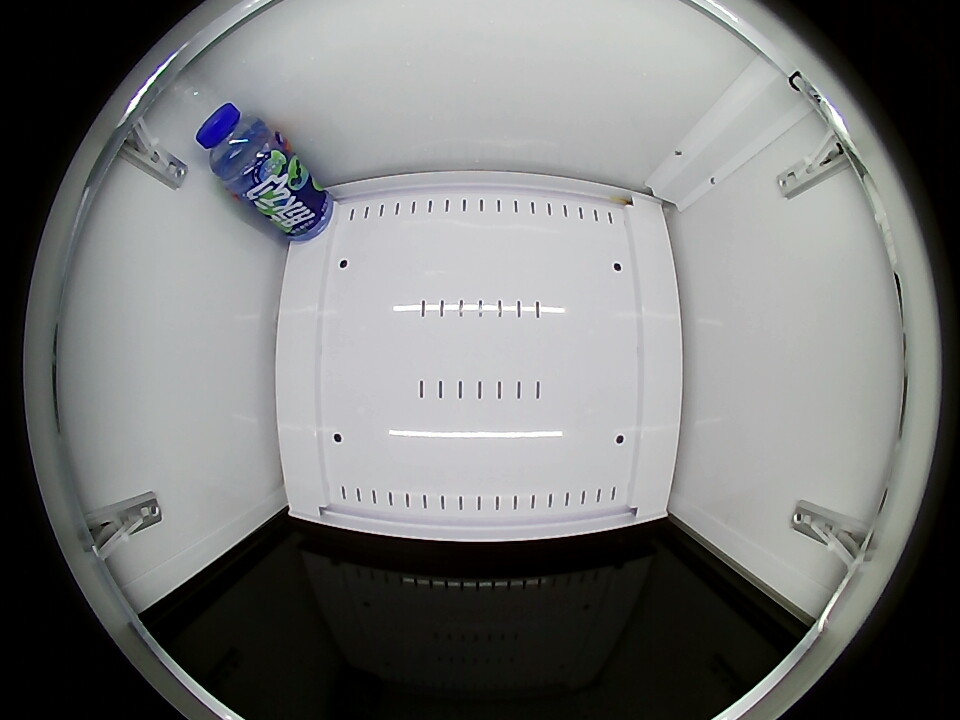maidong: (195, 102, 279, 190)
